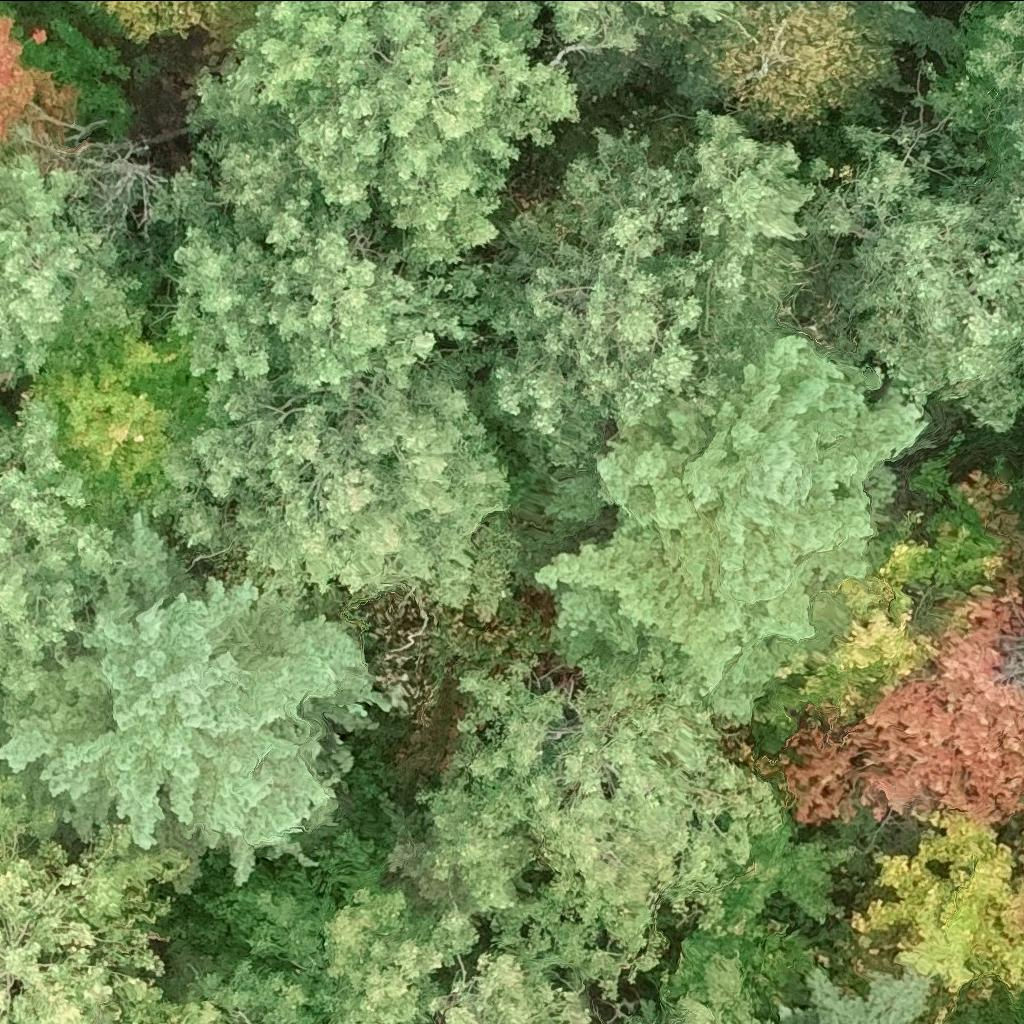crown: (553, 332, 920, 729), (0, 512, 373, 888), (401, 640, 782, 996), (443, 106, 814, 467), (191, 0, 578, 279), (153, 141, 480, 439), (171, 372, 520, 619), (813, 126, 1023, 427), (786, 574, 1023, 825), (0, 759, 191, 1023), (0, 377, 134, 726), (34, 292, 222, 533), (188, 891, 477, 1023), (853, 806, 1023, 1023), (0, 137, 139, 386), (683, 0, 898, 124), (933, 0, 1023, 251), (802, 582, 935, 716), (872, 485, 1012, 599), (424, 946, 584, 1023), (0, 12, 80, 162), (535, 0, 734, 50), (659, 956, 771, 1023), (99, 0, 270, 33), (807, 974, 921, 1023), (160, 986, 245, 1023), (888, 0, 919, 11), (623, 1017, 642, 1023)
